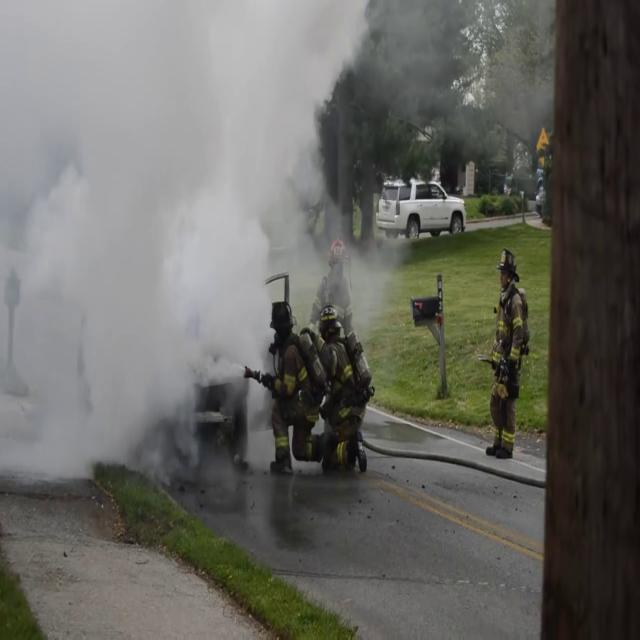Smoke: (0, 0, 362, 493)
